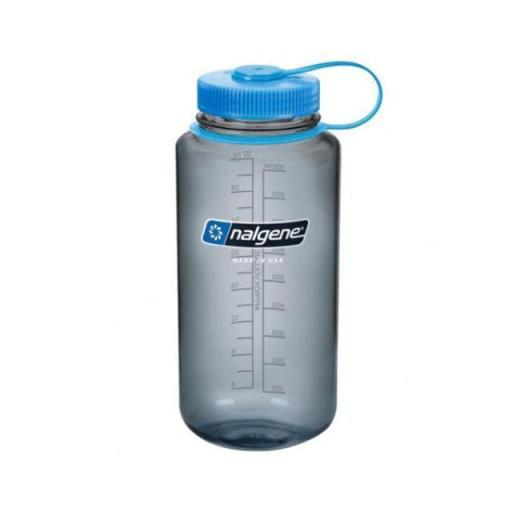bottle: (174, 66, 342, 452)
